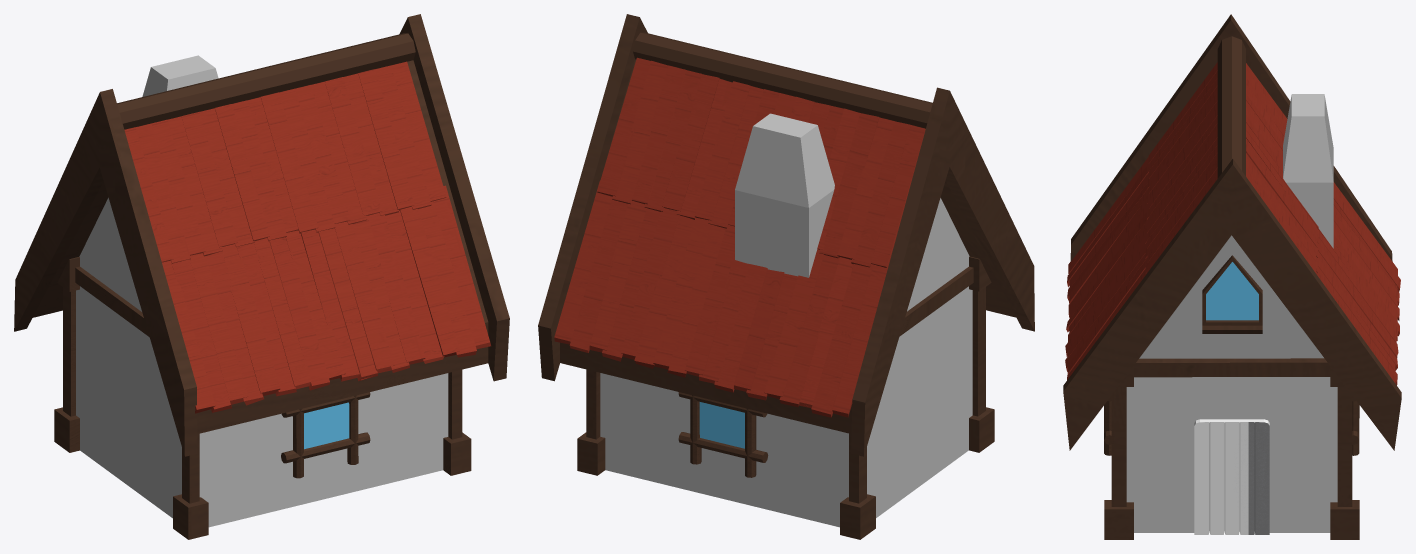
Rendered from casa1.fbx.
3 views of the same model, side by side, from view 1: azimuth 30°, elevation 25°; view 2: azimuth 150°, elevation 25°; view 3: azimuth 270°, elevation 25° (orthographic). The views are drawn at different scales.
Visible parts, largest first — view 1: telhas, madeira, casa, vidros; view 2: telhas, madeira, casa, vidros; view 3: madeira, casa, telhas, porta, vidros.
Boxes of the visible parts, x1=… form: telhas: x1=124, y1=61, x2=490, y2=413; madeira: x1=14, y1=14, x2=509, y2=539; casa: x1=76, y1=55, x2=448, y2=527; vidros: x1=304, y1=402, x2=349, y2=449; telhas: x1=554, y1=57, x2=925, y2=417; madeira: x1=538, y1=14, x2=1034, y2=539; casa: x1=600, y1=113, x2=972, y2=527; vidros: x1=699, y1=402, x2=744, y2=448; madeira: x1=1063, y1=14, x2=1401, y2=539; casa: x1=1126, y1=94, x2=1337, y2=532; telhas: x1=1065, y1=62, x2=1400, y2=385; porta: x1=1194, y1=419, x2=1269, y2=534; vidros: x1=1206, y1=262, x2=1258, y2=320.
Size of the model in its own units: 1198 by 1250 by 1502.
